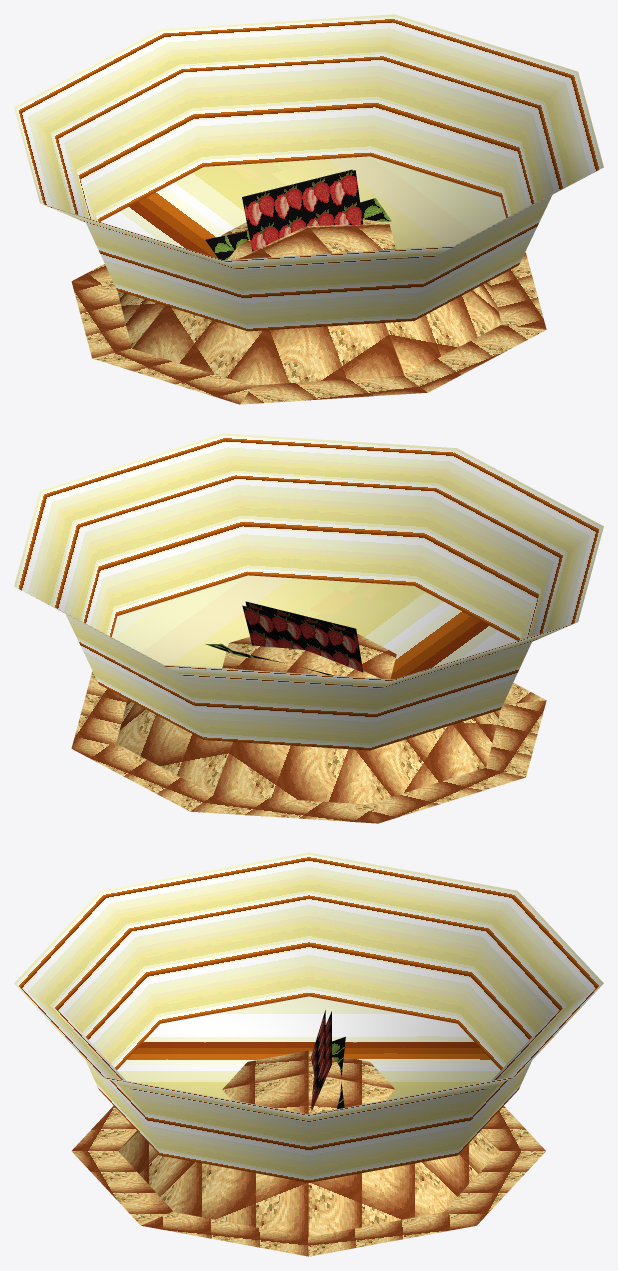
The model's file is 5580u_spps03_ss.gltf.
3 views of the same model, one above another, from view 1: azimuth 30°, elevation 25°; view 2: azimuth 150°, elevation 25°; view 3: azimuth 270°, elevation 25° (orthographic).
Parts seen in each view (by area): view 1: 5580u_spps03_ss; view 2: 5580u_spps03_ss; view 3: 5580u_spps03_ss.
Part boxes in pixels (x1,y1,x2,y2): 5580u_spps03_ss: (14,14,603,404); 5580u_spps03_ss: (14,433,603,823); 5580u_spps03_ss: (14,852,603,1256).
Bounding box in the file's own units: 0.8237 × 0.2644 × 0.7837.
Materials: 5 (5 with a texture image).
